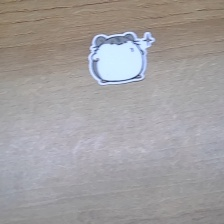mouse: (88, 30, 155, 85)
